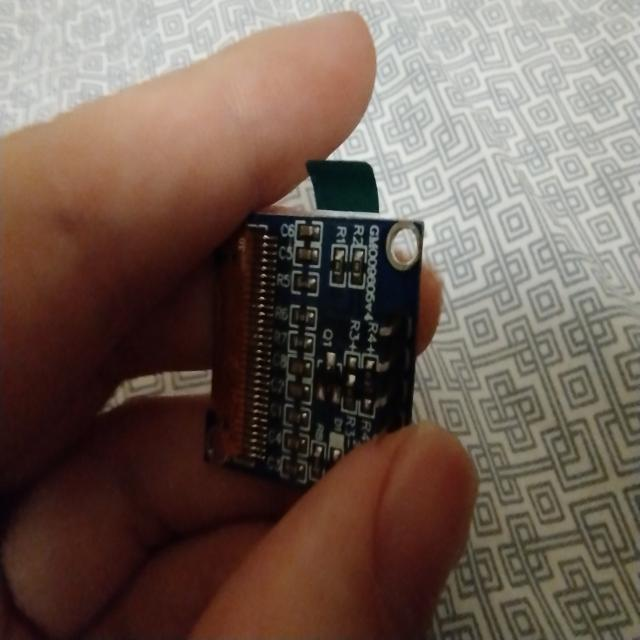oled: (209, 159, 426, 506)
